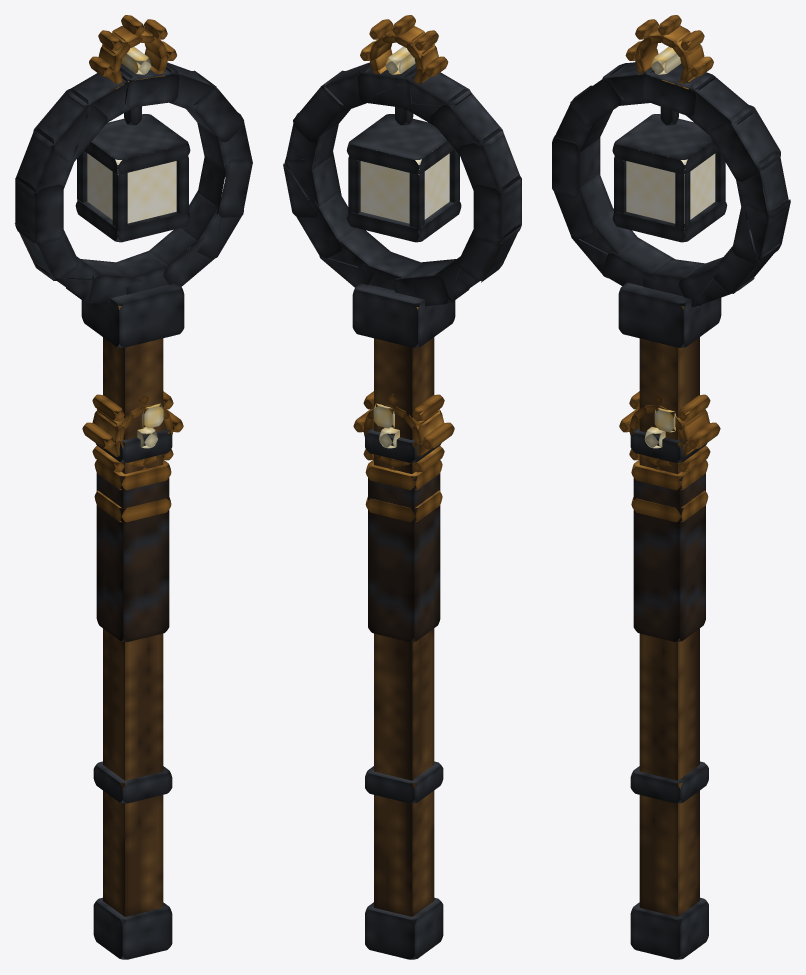
File: tuning_fork.obj
The picture shows the model from 3 angles, left to right: view 1: azimuth 30°, elevation 25°; view 2: azimuth 150°, elevation 25°; view 3: azimuth 330°, elevation 25°; orthographic projection.
Parts seen in each view (by area): view 1: lit, fire; view 2: lit, fire; view 3: lit, fire.
Boxes of the visible parts, x1=… form: lit: x1=14, y1=15, x2=252, y2=959; fire: x1=87, y1=47, x2=176, y2=448; lit: x1=283, y1=15, x2=521, y2=959; fire: x1=357, y1=46, x2=449, y2=448; lit: x1=552, y1=15, x2=790, y2=959; fire: x1=623, y1=47, x2=715, y2=448.
Bounding box in the file's own units: 0.7148 × 2.88 × 0.2375.
